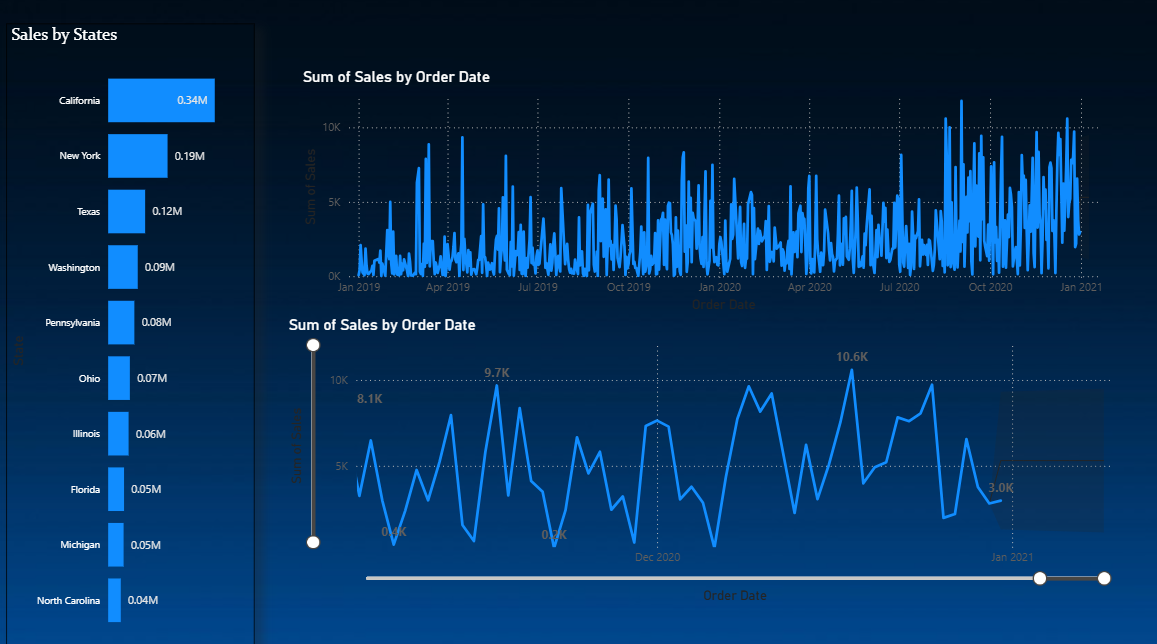

This screenshot's page, from the dashboard's own definition file:
{"tool":"powerbi","page":{"name":"Sales forecasting","canvas":[1280,720],"ordinal":1},"visuals":[{"type":"lineChart","fields":{"Category":["SuperStore Sales DataSet.Order Date"],"Y":["Sum(SuperStore Sales DataSet.Sales)"]},"box":[336,80,896,272],"z":0},{"type":"lineChart","fields":{"Category":["SuperStore Sales DataSet.Order Date"],"Y":["Sum(SuperStore Sales DataSet.Sales)"]},"box":[320,352,928,320],"z":1},{"type":"clusteredBarChart","title":"Sales by States","fields":{"Category":["SuperStore Sales DataSet.State"],"Y":["Sum(SuperStore Sales DataSet.Sales)"]},"box":[16,32,272,688],"z":2}]}

Visuals, with their boxes in screenshot pixels (x1, y1, x2, y2), scaled from the page's 1280x720 canvas onto the 1157x644 screenshot:
lineChart - SuperStore Sales DataSet.Order Date x Sum(SuperStore Sales DataSet.Sales): left=304, top=72, right=1114, bottom=315
lineChart - SuperStore Sales DataSet.Order Date x Sum(SuperStore Sales DataSet.Sales): left=289, top=315, right=1128, bottom=601
"Sales by States" clusteredBarChart: left=14, top=29, right=260, bottom=643
